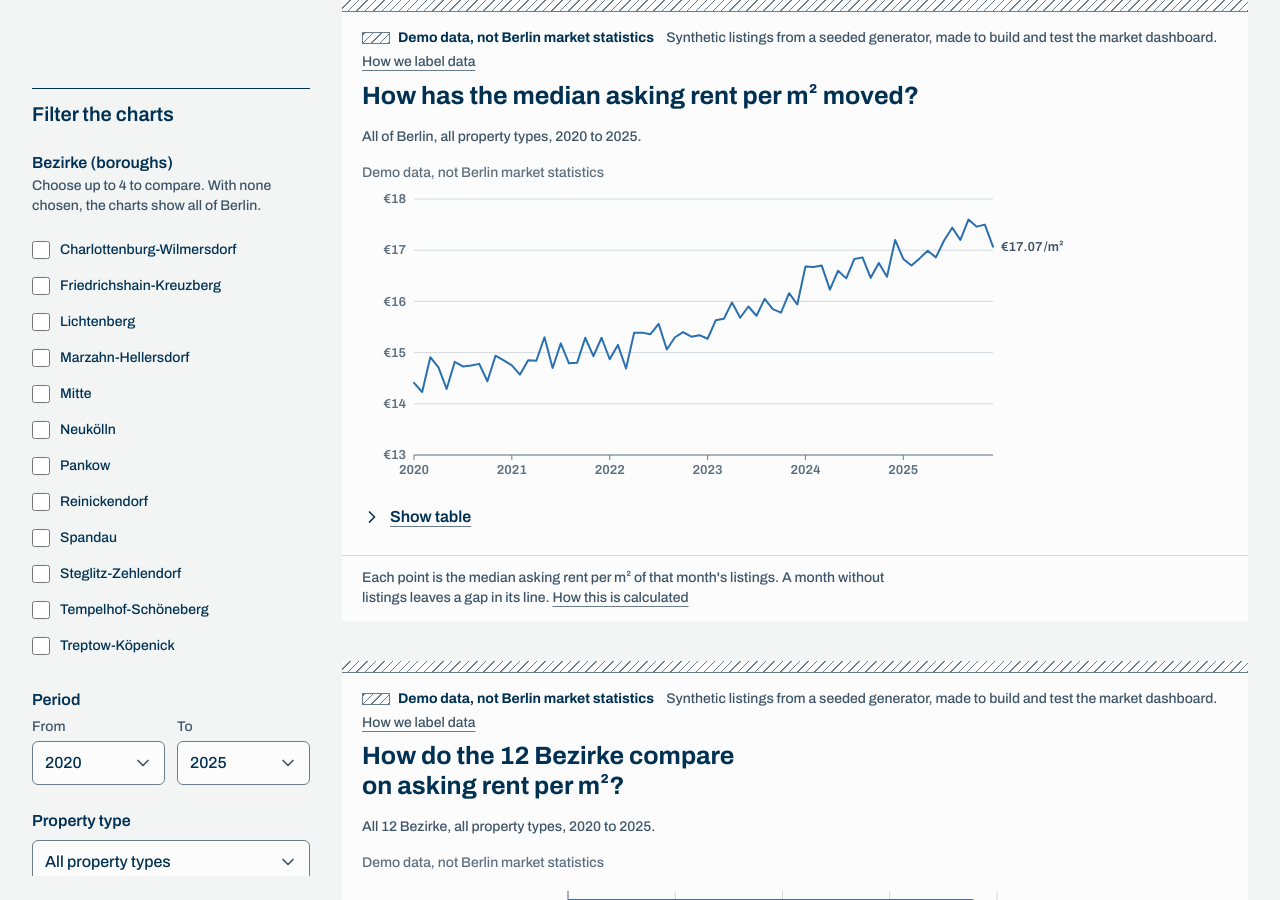
Scenario: MarketView › only refetches the modules whose filters changed
Click the checkbox labelled "Mitte": {"x": 41, "y": 394} [32,385,50,403]
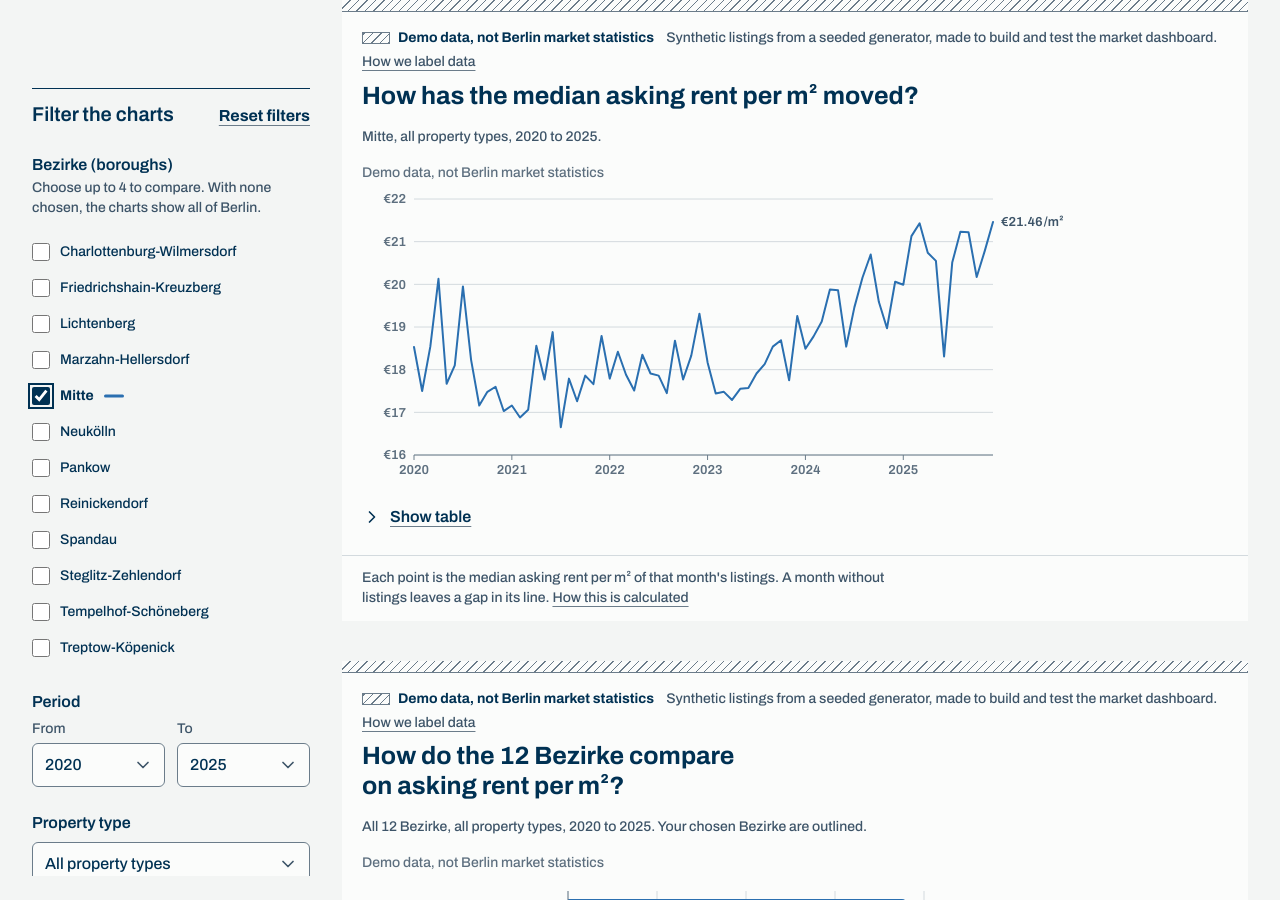
Select "Loft" in the dropdown labelled "Property type": {"x": 171, "y": 864} [32,842,310,886]
(page scrolled)
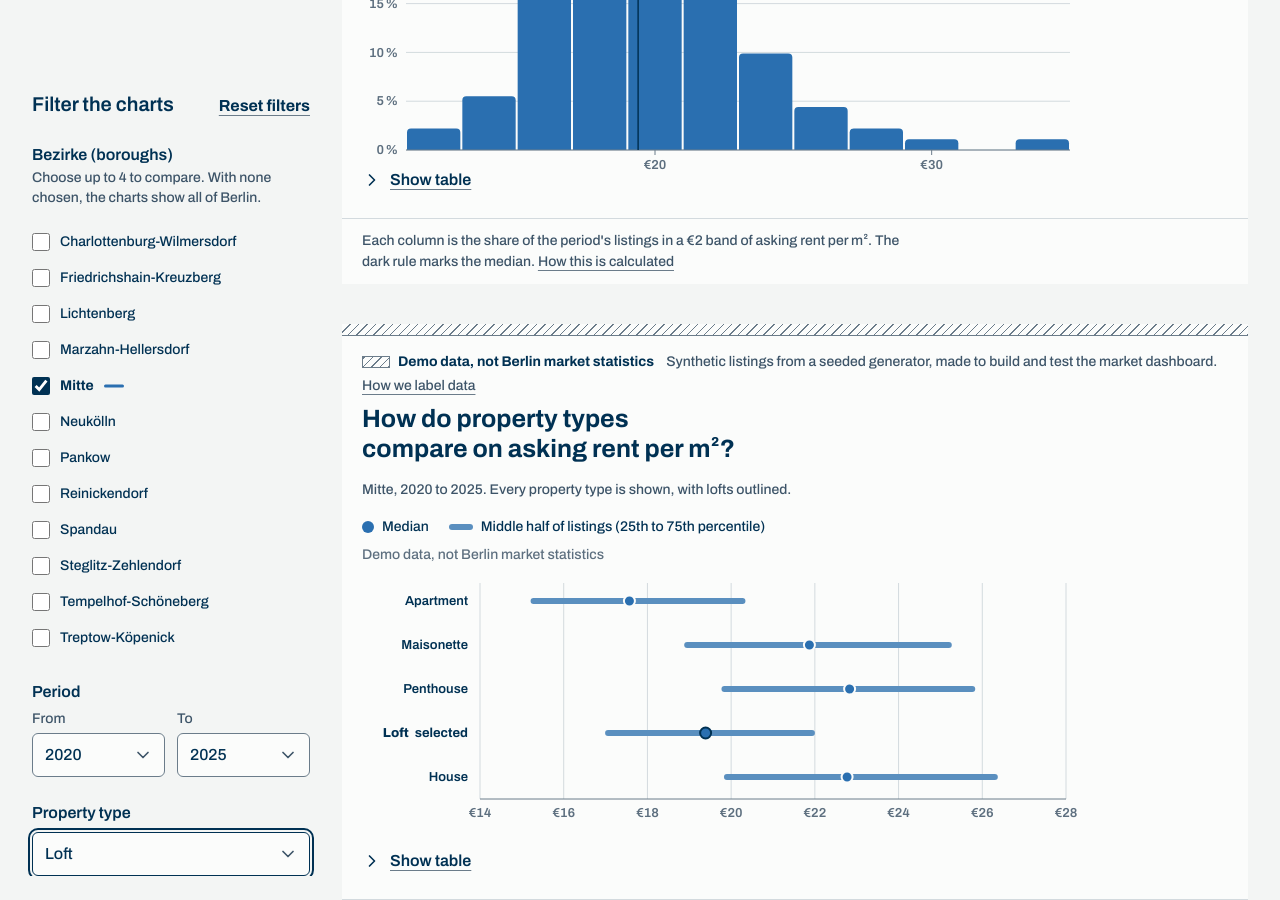
Expected: the text "Mitte, 2020 to 2025. Every property type is shown, with lofts outlined." is shown, [362,482,791,498]
